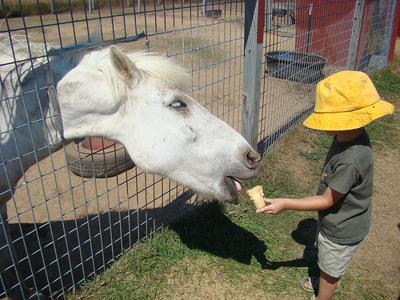person: (255, 70, 374, 300)
